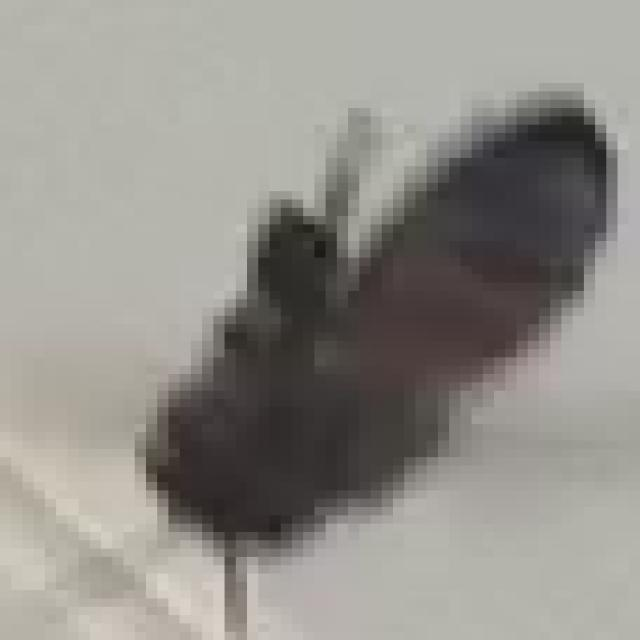honeybee: (106, 50, 640, 592)
